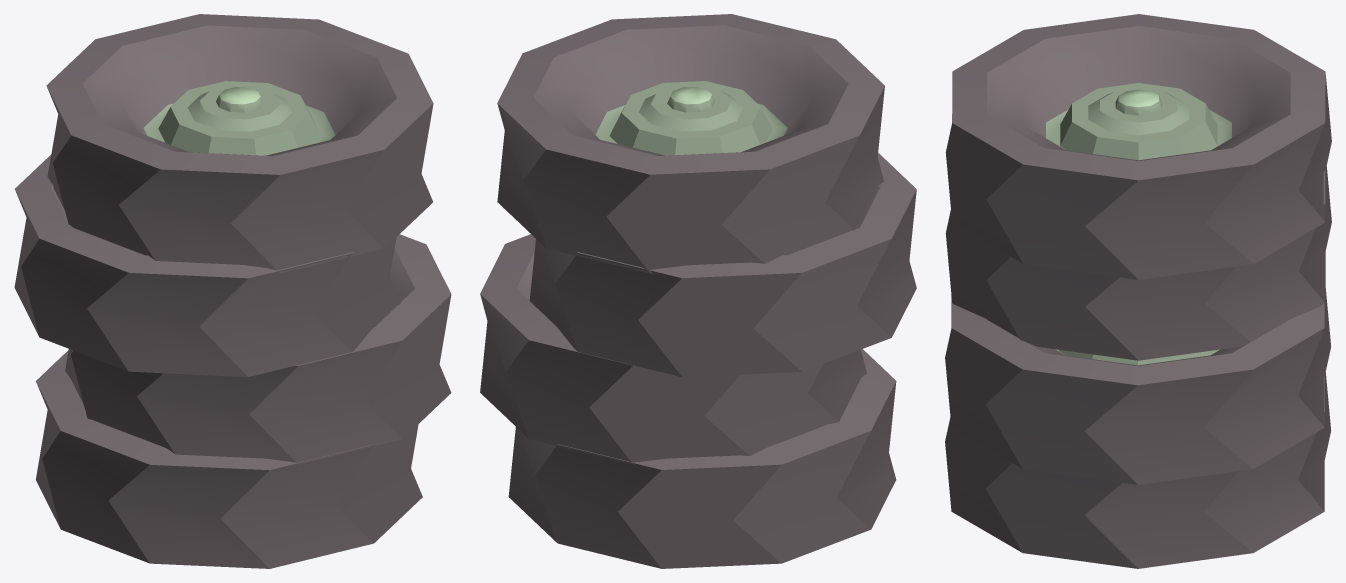
The model's file is banden.fbx.
The picture shows the model from 3 angles, left to right: view 1: azimuth 30°, elevation 25°; view 2: azimuth 150°, elevation 25°; view 3: azimuth 270°, elevation 25°; orthographic projection.
Visible parts, largest first — view 1: BandenHoop; view 2: BandenHoop; view 3: BandenHoop.
Boxes of the visible parts, x1,y1,x2,y2 form: BandenHoop: (14,14,451,568); BandenHoop: (480,14,916,568); BandenHoop: (945,14,1331,568).
Bounding box in the file's own units: 0.9862 × 0.9715 × 0.8479.
